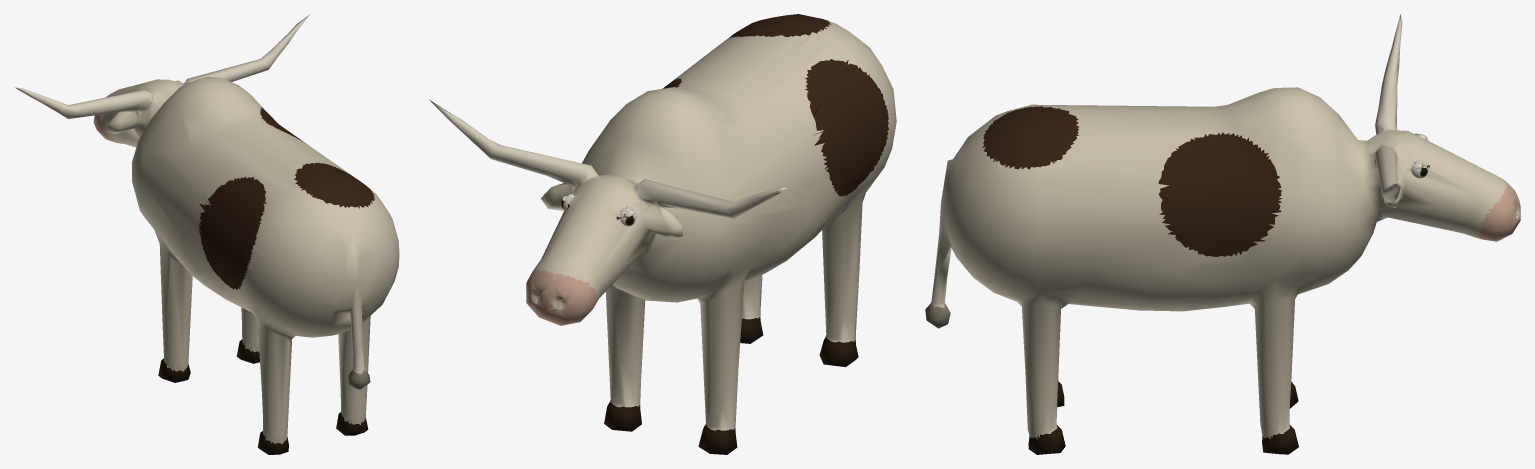
The model's file is cow-b.glb.
3 renders of one model, left to right at view 1: azimuth 30°, elevation 25°; view 2: azimuth 150°, elevation 25°; view 3: azimuth 270°, elevation 25°, orthographic. The views are drawn at different scales.
Parts seen in each view (by area): view 1: body_lod0; view 2: body_lod0; view 3: body_lod0.
Part boxes in pixels (left/top/right/bottom): body_lod0: left=15, top=14, right=399, bottom=454; body_lod0: left=429, top=14, right=896, bottom=454; body_lod0: left=925, top=14, right=1520, bottom=454.
Size of what is drawn, in the model's own units: 1.81 by 1.66 by 2.68.
